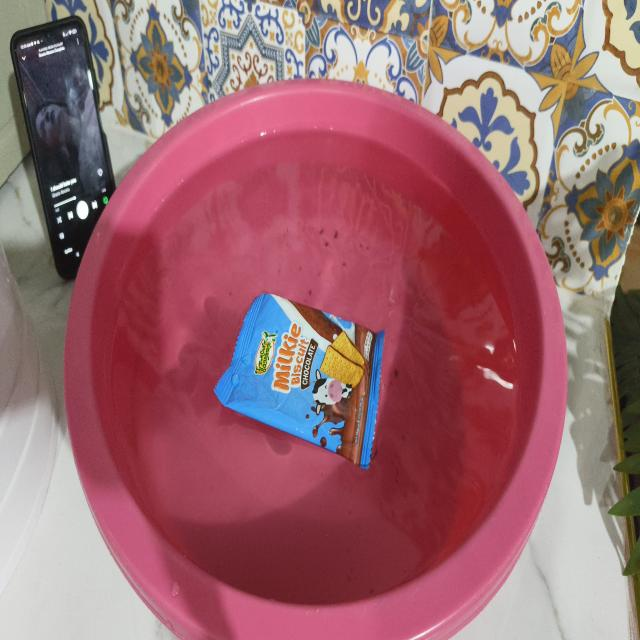Plastic Wrapper: (215, 294, 384, 469)
